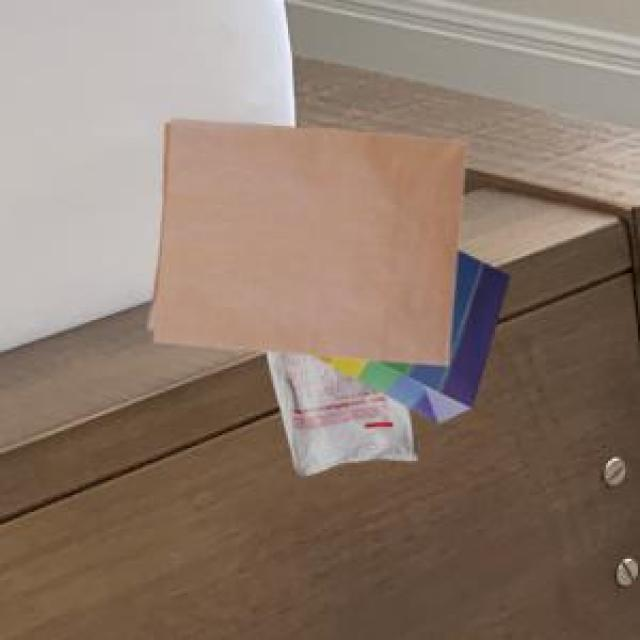paper: (145, 115, 462, 361), (314, 245, 506, 418)
